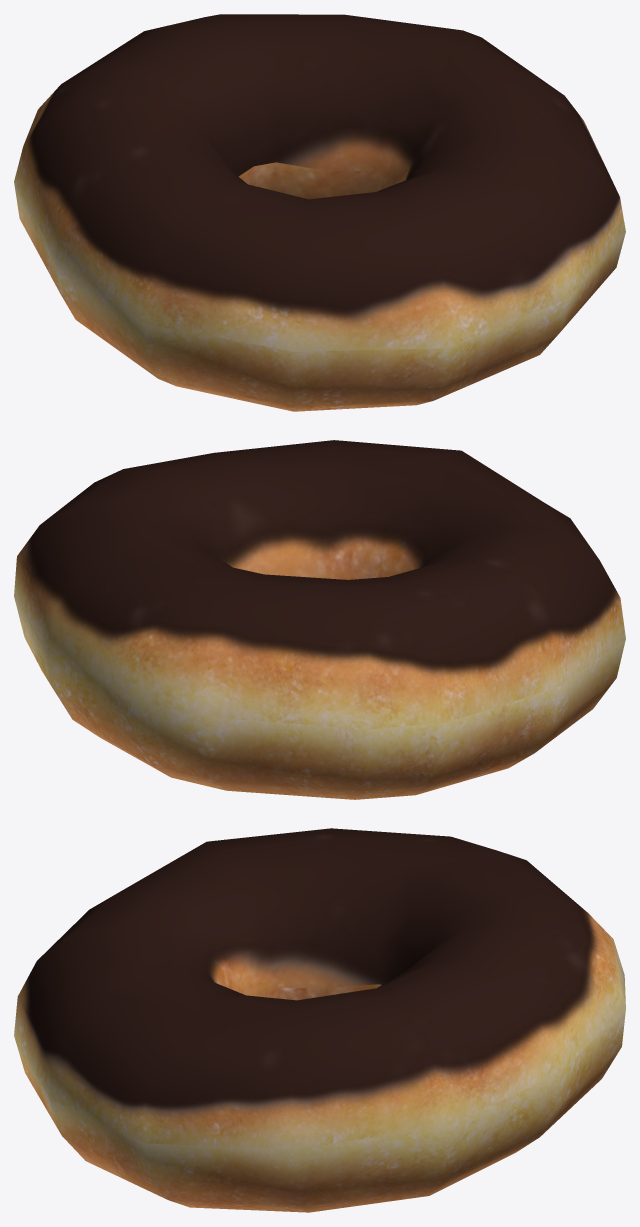
The model's file is Donut6LP.obj.
3 views of the same model, one above another, from view 1: azimuth 30°, elevation 25°; view 2: azimuth 150°, elevation 25°; view 3: azimuth 270°, elevation 25° (orthographic).
Visible parts, largest first — view 1: donut065; view 2: donut065; view 3: donut065.
Part boxes in pixels (x1=…): donut065: x1=14, y1=14, x2=625, y2=411; donut065: x1=14, y1=440, x2=625, y2=799; donut065: x1=14, y1=828, x2=625, y2=1212.
Bounding box in the file's own units: 9.42 × 3.94 × 9.78.
Materials: 1 (1 with a texture image).
